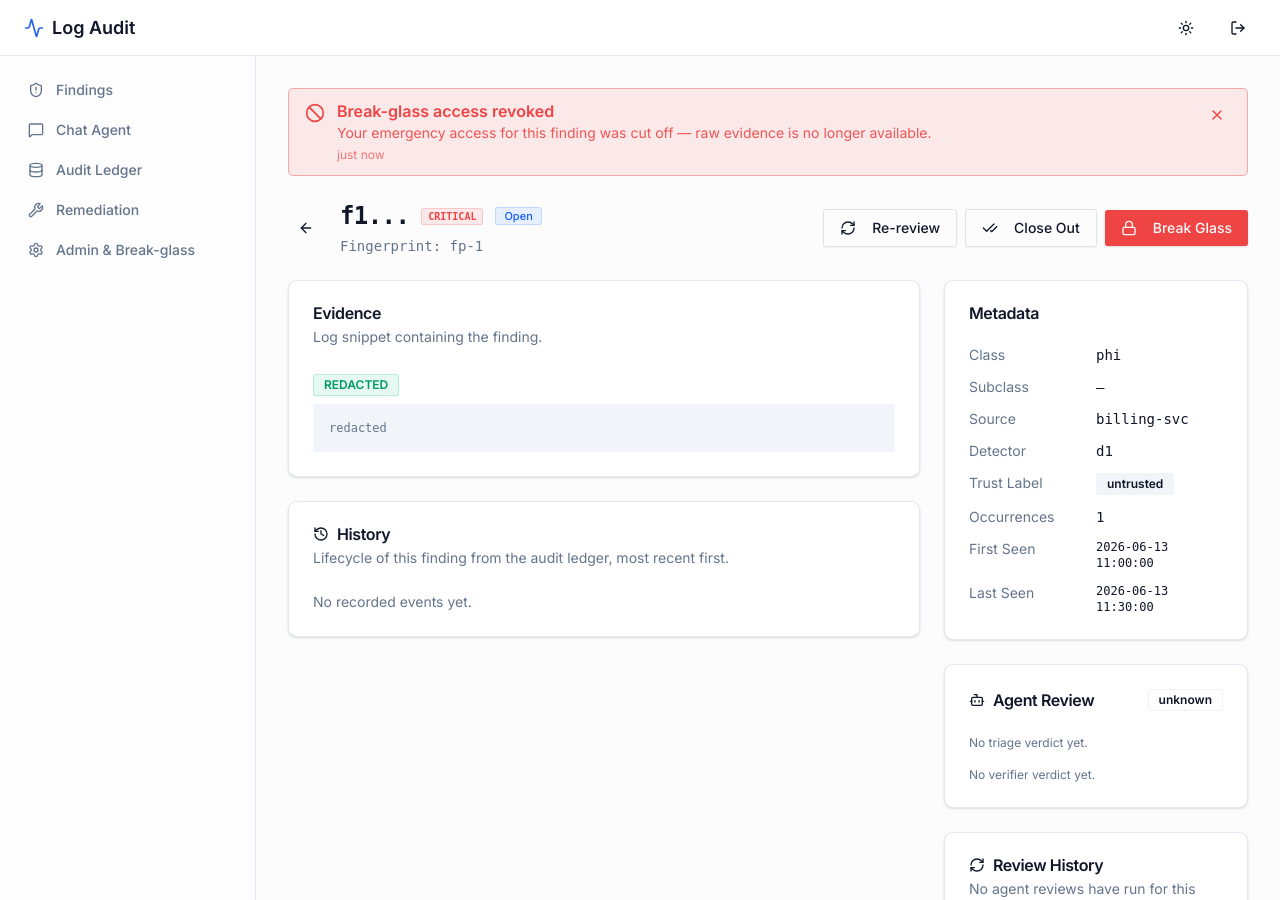
Test case: FindingDetail persistent access-change banner › dismisses the banner only when the analyst acknowledges it
Expected: the message with test id "break-glass-access-banner" is shown, [288,88,1248,176]
Click the button named "dismiss break-glass access notice".
click(1217, 115)  # box [1203,101,1231,129]
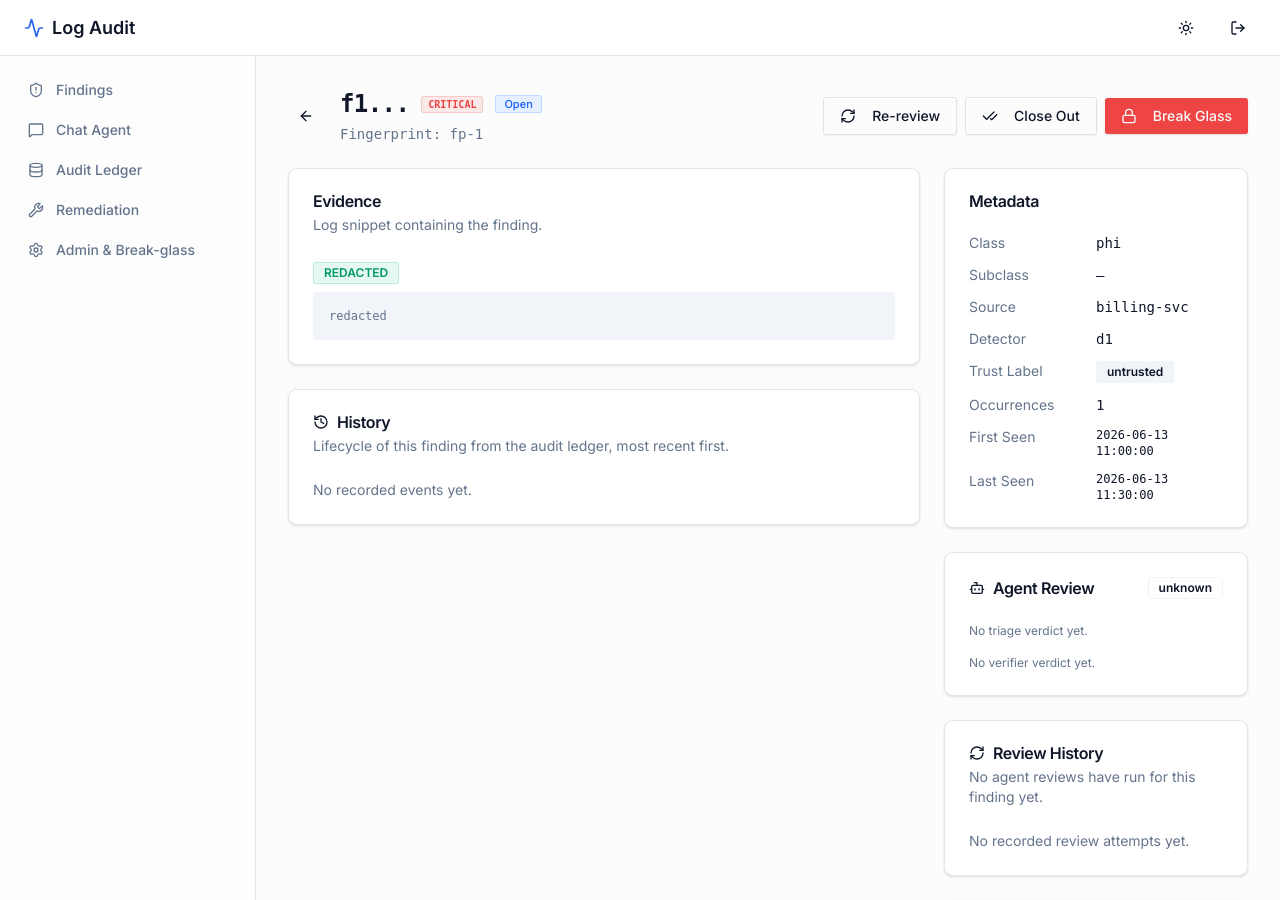
Result: the message with test id "break-glass-access-banner" is gone
